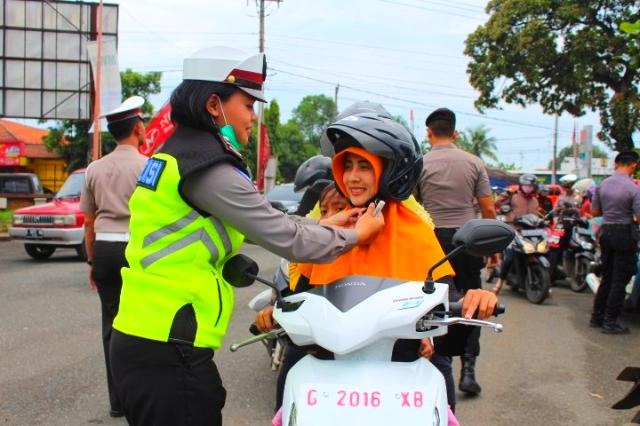helm: (318, 101, 430, 208), (571, 180, 599, 207), (520, 174, 540, 200), (559, 174, 579, 194)
motor: (212, 219, 517, 426), (501, 205, 559, 308), (559, 211, 597, 296)
